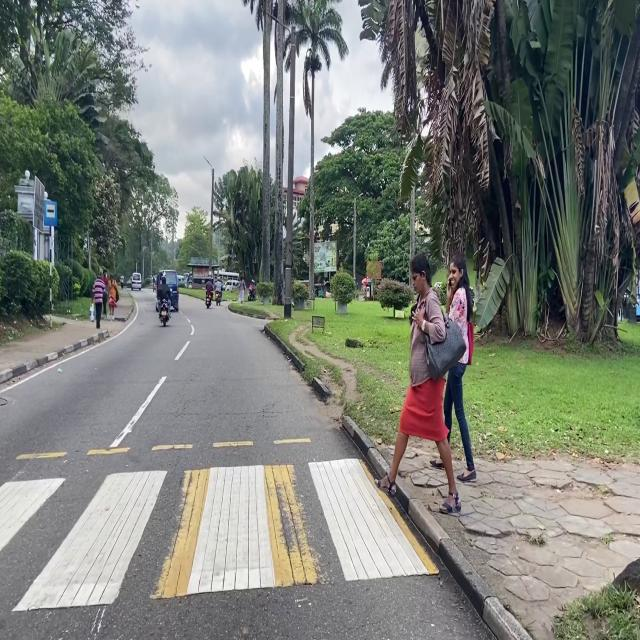bus: (218, 270, 239, 283)
motorcycle: (160, 301, 169, 327), (215, 291, 222, 306), (206, 295, 212, 308), (248, 291, 255, 302)
person: (376, 253, 465, 514), (431, 253, 476, 483), (91, 273, 105, 329), (157, 276, 171, 312), (109, 275, 118, 316), (103, 270, 109, 316), (205, 277, 213, 297), (239, 278, 245, 303), (215, 277, 223, 294), (249, 280, 254, 292), (120, 276, 124, 288)
three wheeler: (315, 283, 324, 298), (152, 275, 156, 291)
van: (156, 270, 178, 311), (130, 272, 142, 290)
